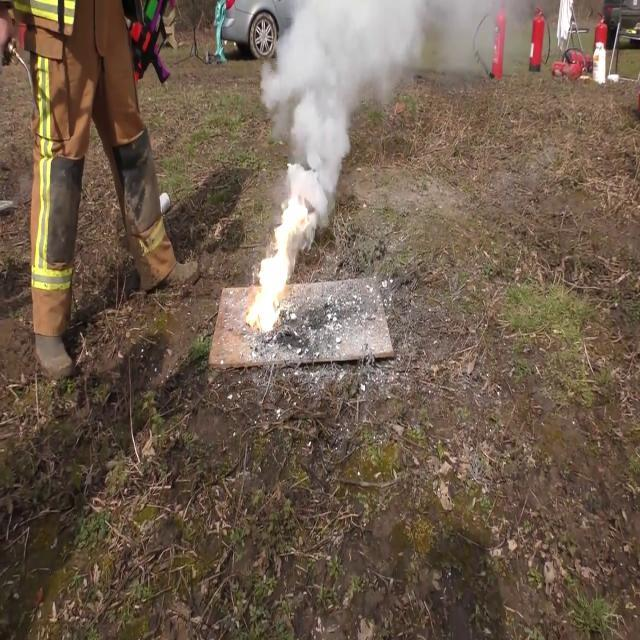Fire: (242, 191, 309, 333)
Smoke: (256, 0, 474, 199)
